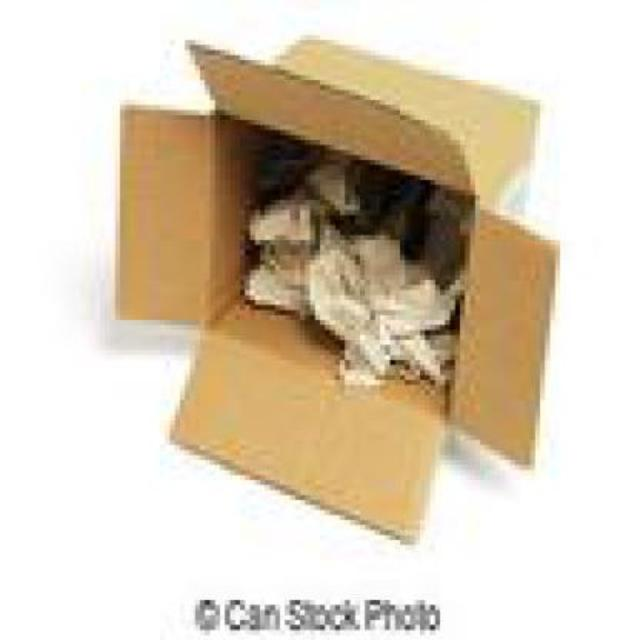cardboard_box: (97, 24, 577, 546)
